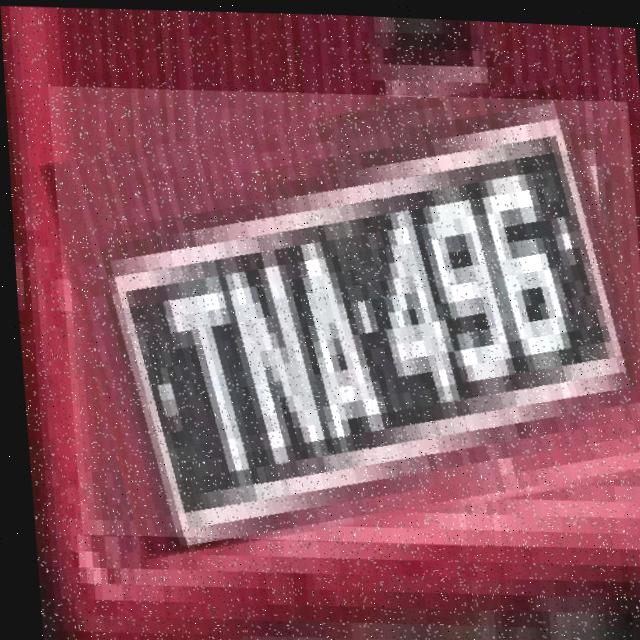LicensePlate: (46, 75, 640, 554)
